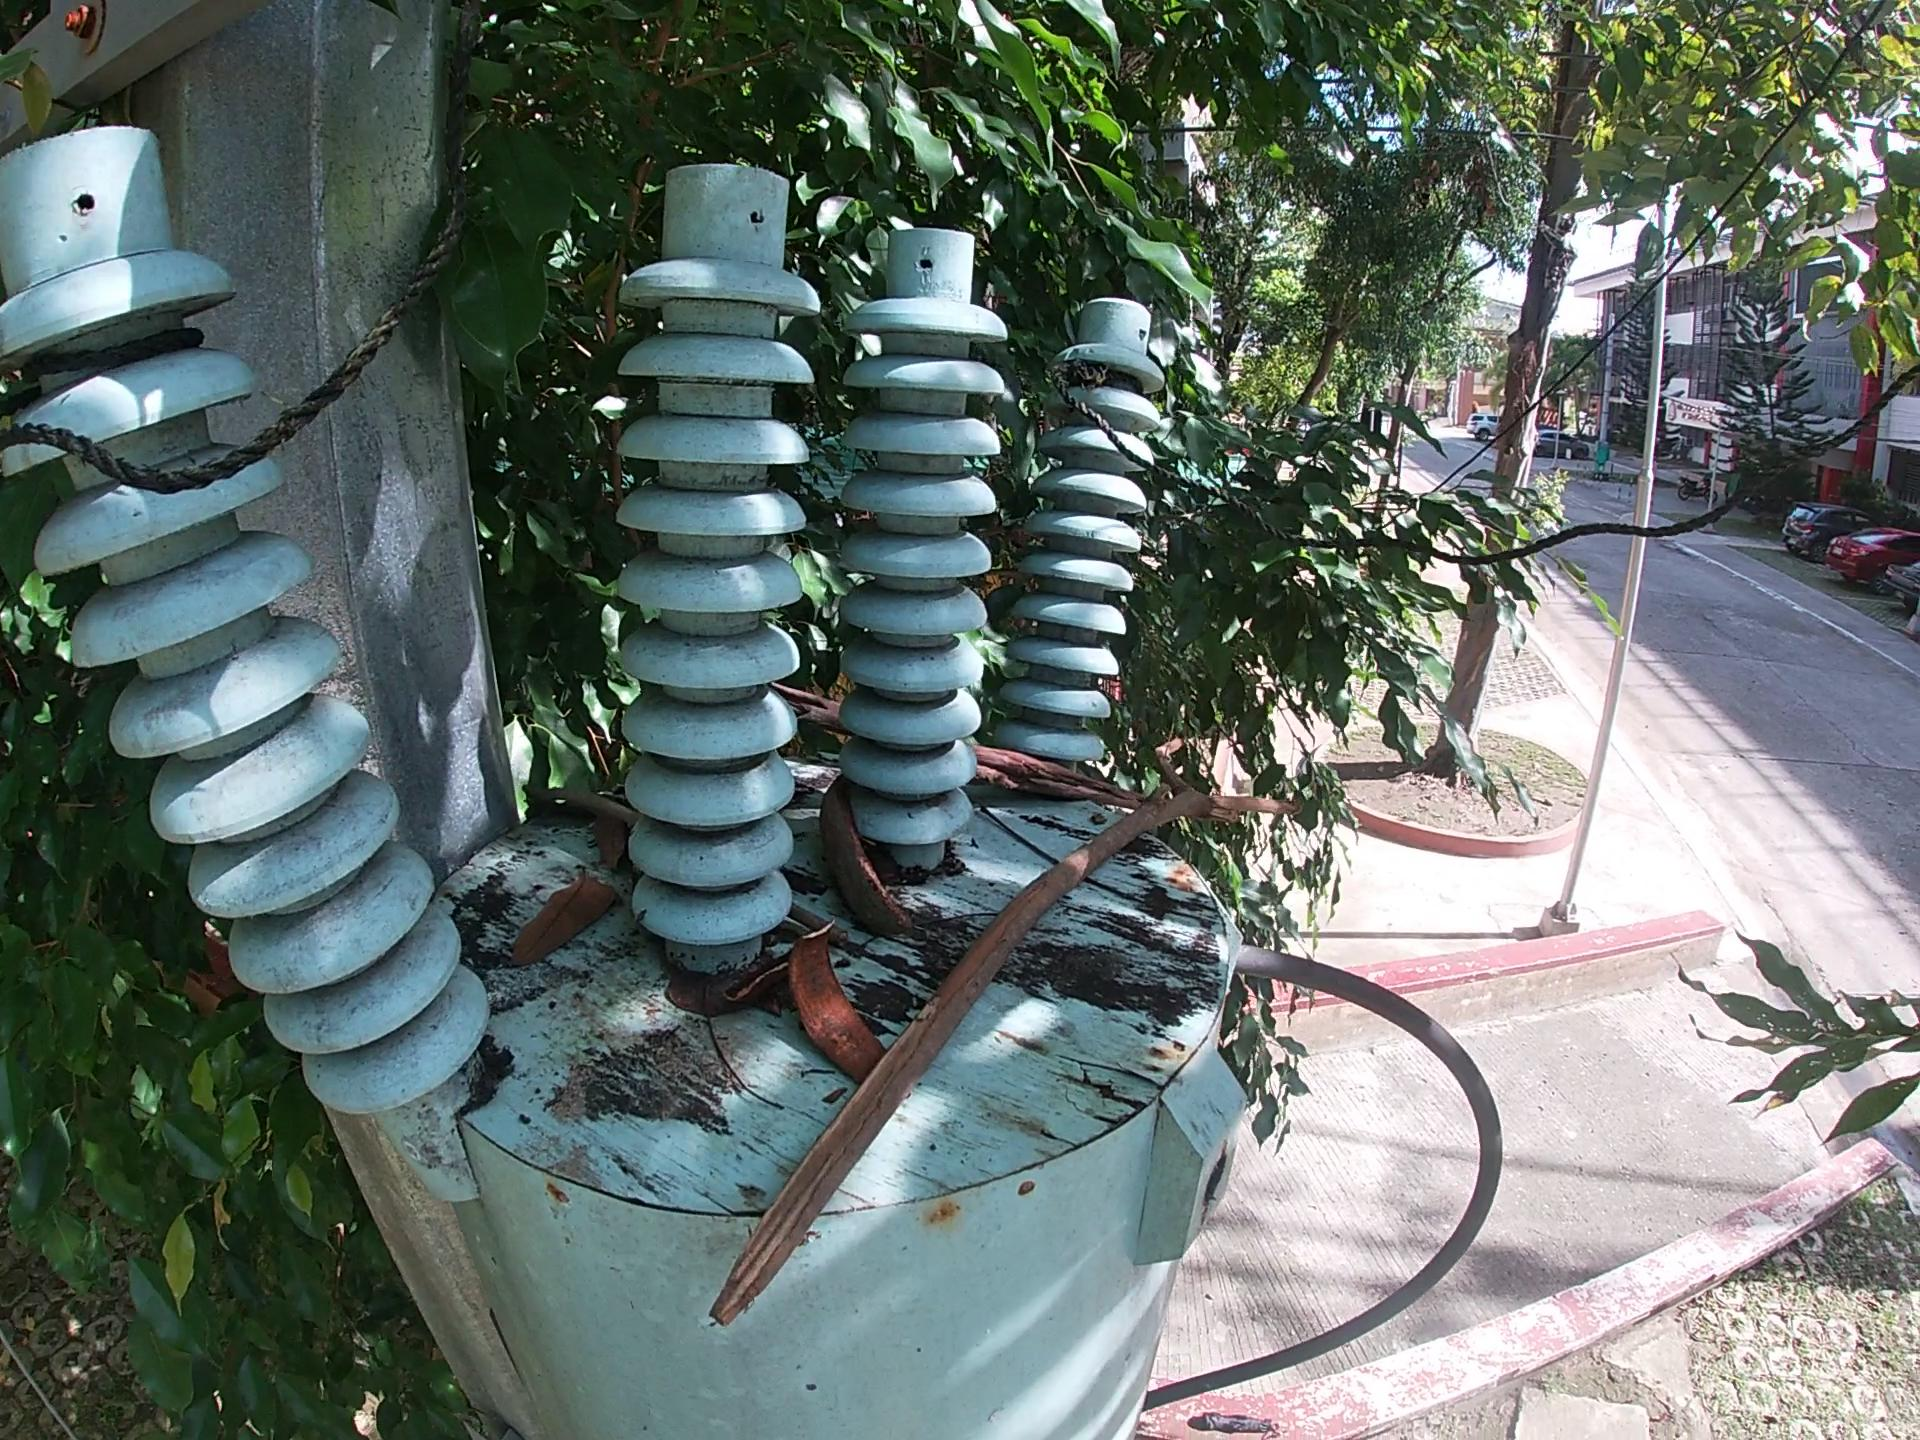leaf: (505, 862, 627, 973), (662, 959, 745, 1024), (588, 809, 644, 876)
mahogany fruit: (782, 920, 895, 1100), (815, 768, 915, 939)
tree branch: (698, 725, 1321, 1340), (765, 678, 1149, 814), (513, 781, 641, 827), (788, 905, 859, 948)
